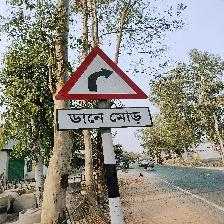Right-turn: (54, 46, 153, 132)
